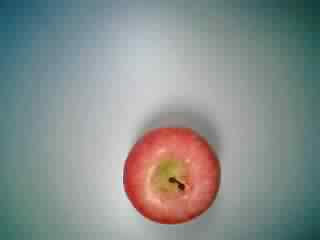apple: (121, 126, 225, 227)
